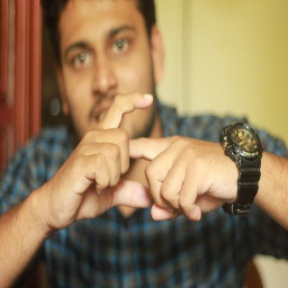E: (89, 87, 181, 218)
